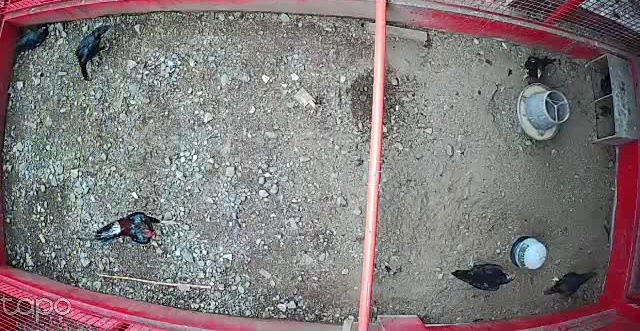Chicken: (450, 255, 520, 292), (73, 23, 113, 81), (540, 270, 599, 298), (10, 20, 51, 53), (517, 52, 563, 81)
Drinker: (510, 235, 547, 271)
Feeder: (516, 82, 571, 144)
Rooster: (92, 210, 165, 251)
